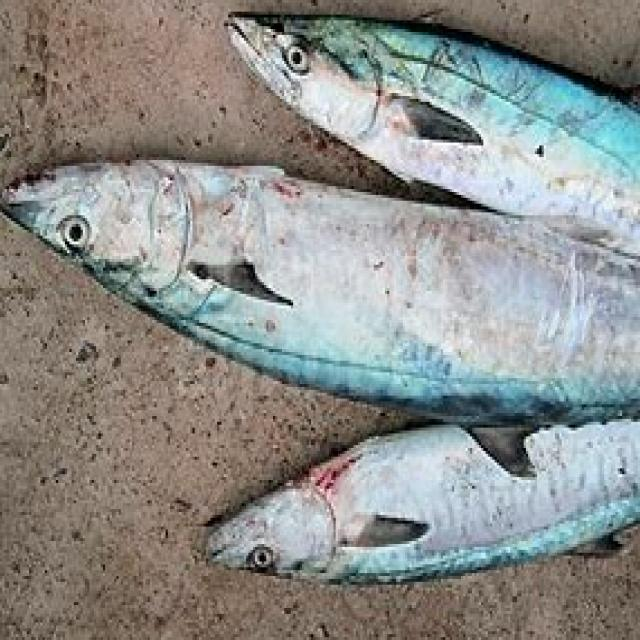seer: (0, 163, 640, 480)
